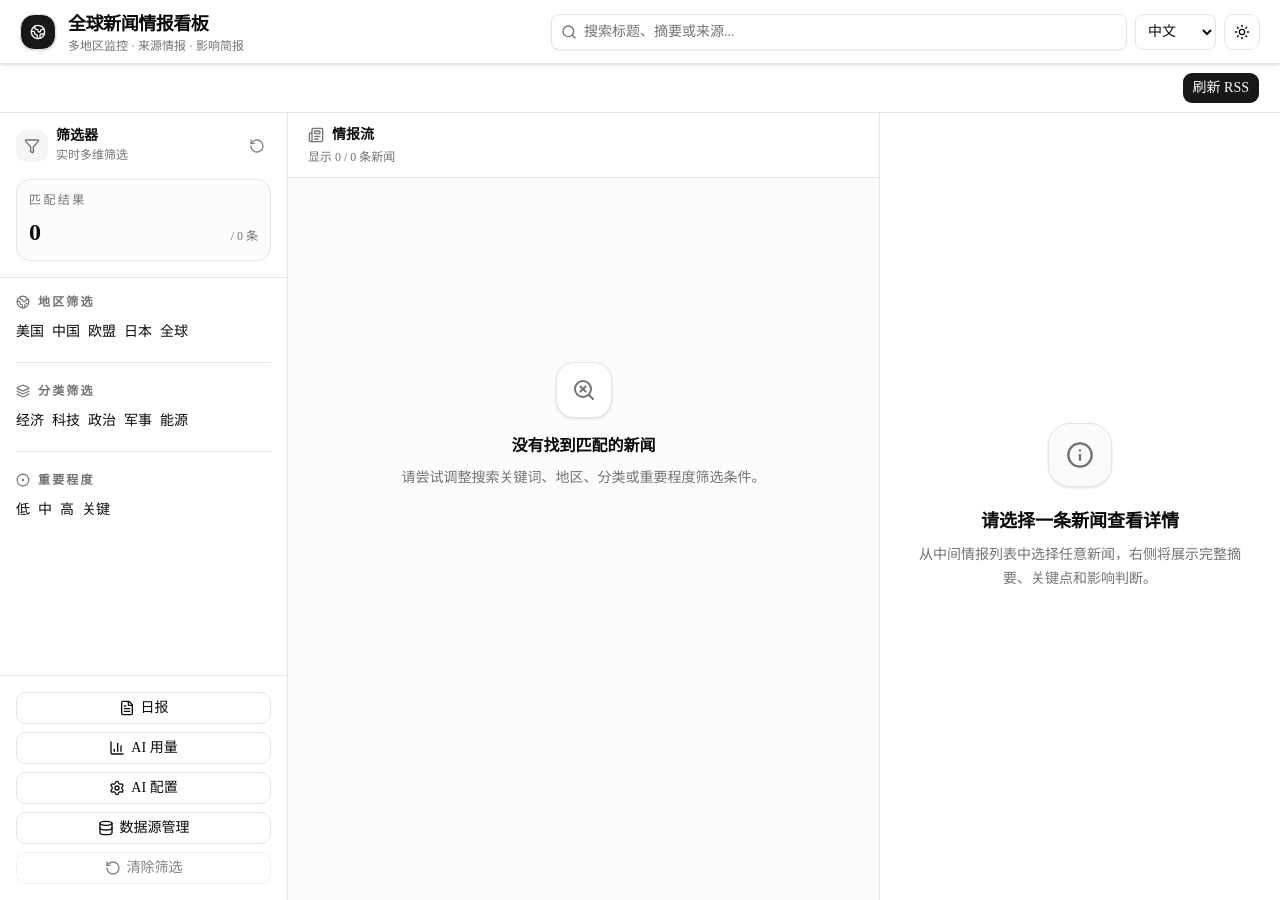
Scenario: Dashboard page › RSS 刷新按钮存在且点击后触发抓取并重新加载新闻
Click the button "刷新 RSS" at (1221, 88), box [1182,72,1260,104]
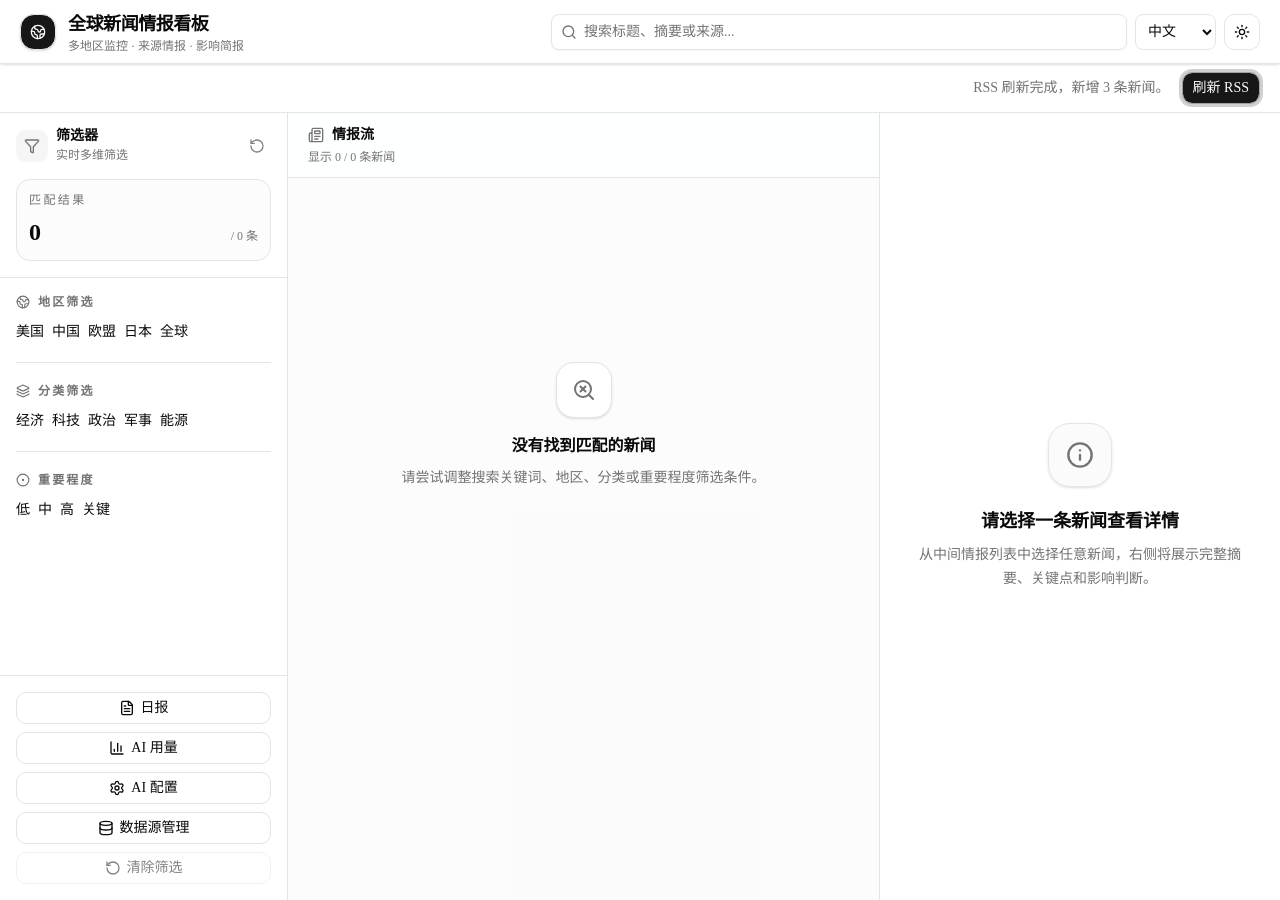
Expected: the text "RSS 刷新完成，新增 3 条新闻。" is shown, [973,78,1170,98]
